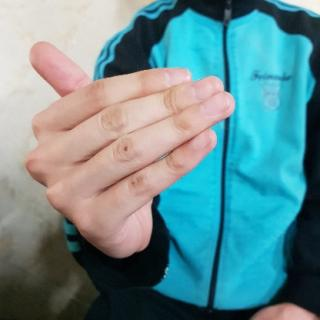KHAA: (17, 38, 242, 259)
